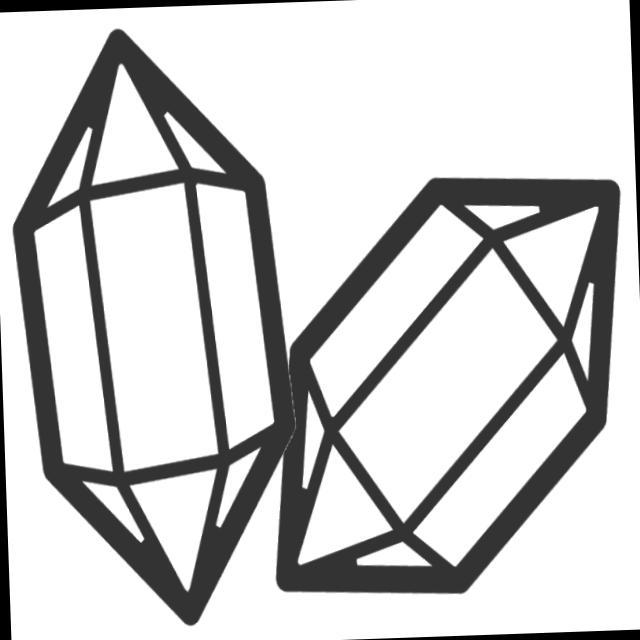crystal: (1, 15, 365, 640), (232, 161, 640, 611)
